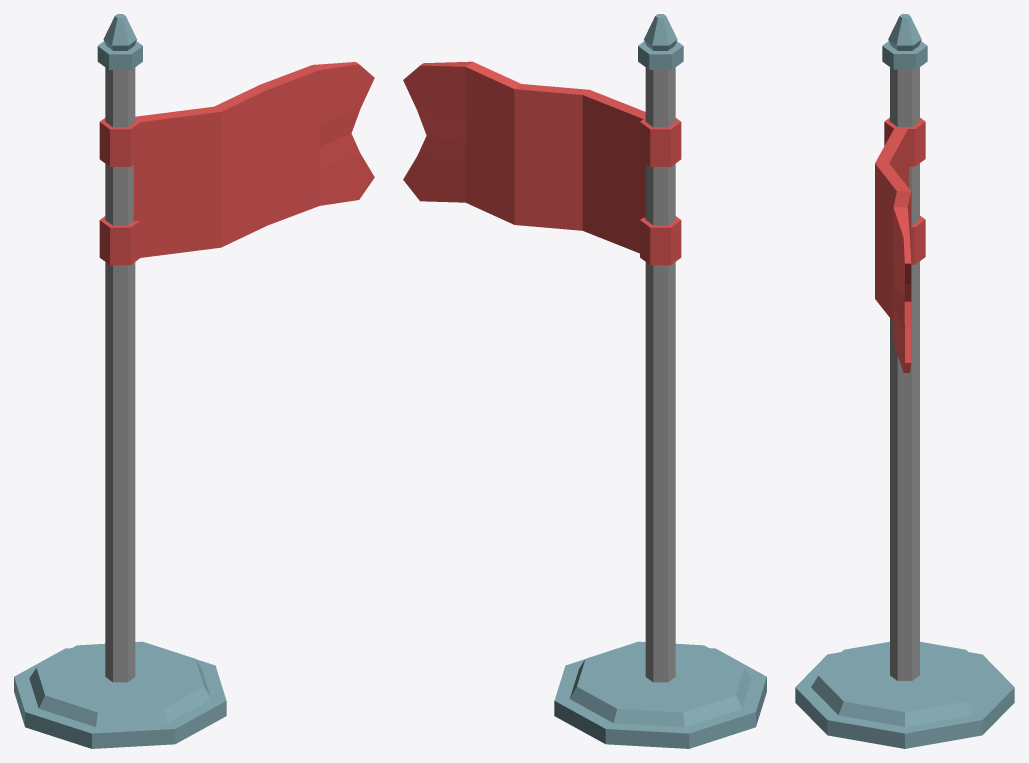
Rendered from Flag.glb.
3 renders of one model, left to right at view 1: azimuth 30°, elevation 25°; view 2: azimuth 150°, elevation 25°; view 3: azimuth 270°, elevation 25°, orthographic.
Visible parts, largest first — view 1: Flag_Cylinder; view 2: Flag_Cylinder; view 3: Flag_Cylinder.
Part boxes in pixels (x1,y1,x2,y2): Flag_Cylinder: (14, 14, 374, 748); Flag_Cylinder: (403, 14, 766, 748); Flag_Cylinder: (795, 14, 1014, 748).
Size of the model in its own units: 1.51 by 2.84 by 0.8238.
